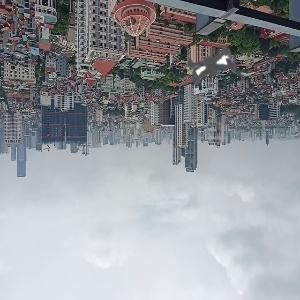drone: (150, 7, 270, 127)
